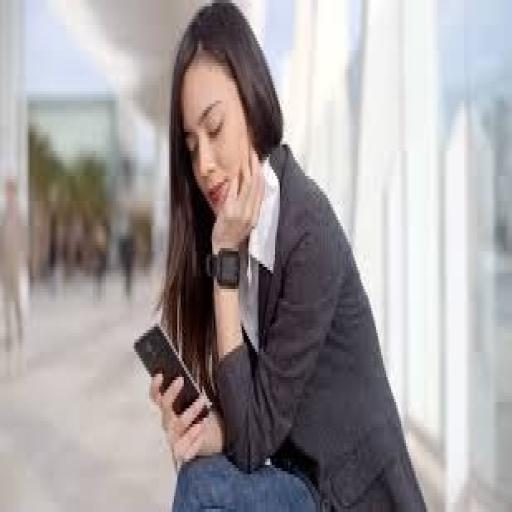texting: (144, 0, 429, 509)
